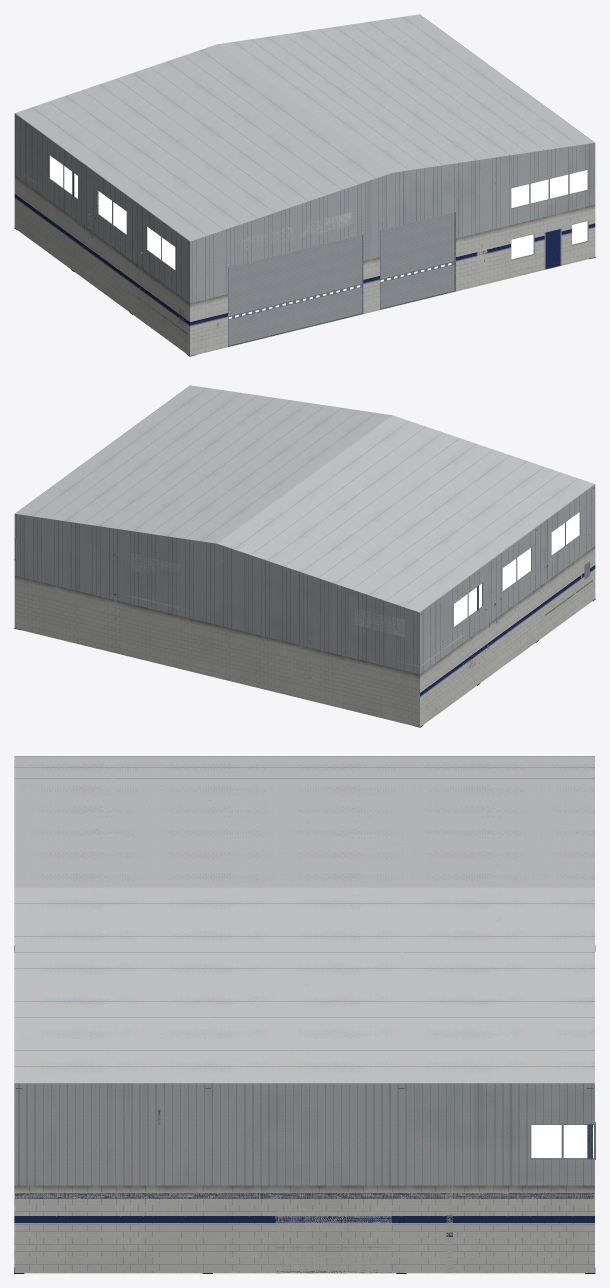
The model's file is shell_workshop.glb.
3 views of the same model, one above another, from view 1: azimuth 30°, elevation 25°; view 2: azimuth 150°, elevation 25°; view 3: azimuth 270°, elevation 25° (orthographic). The views are drawn at different scales.
Visible parts, largest first — view 1: Roof_L, Roof_R, Wall_Front_Liner, Wall_Left_Block, Wall_Front_Block, Wall_Left_Liner, St_DoorA_SlatsHigh, St_DoorB_SlatsHigh, St_DoorA_SlatsLow, St_DoorB_SlatsLow, Win_Front_2_Pane, Win_Left_1_Pane (+5 smaller); view 2: Roof_L, Roof_R, Wall_Back_Liner, Wall_Back_Block, Wall_Left_Block, Wall_Left_Liner, Sv_Spons_BackL_Back, Win_Left_1_Pane, Win_Left_0_Pane, Win_Left_2_Pane; view 3: Roof_R, Roof_L, Wall_Right_Liner, Wall_Right_Block, St_Mezz_Ledger, Rm_Wall_Carcass, Win_Right_0_Pane, Rm_Kitchen_Carcass.
Boxes of the visible parts, x1,y1,x2,y2 form: Roof_L: (15,44,392,241); Roof_R: (218,14,594,172); Wall_Front_Liner: (190,143,595,303); Wall_Left_Block: (14,175,189,355); Wall_Front_Block: (190,204,595,355); Wall_Left_Liner: (14,113,189,302); St_DoorA_SlatsHigh: (228,235,361,316); St_DoorB_SlatsHigh: (380,212,454,278); St_DoorA_SlatsLow: (228,287,361,344); St_DoorB_SlatsLow: (380,265,454,307); Win_Front_2_Pane: (511,170,587,207); Win_Left_1_Pane: (98,191,126,233); Roof_L: (217,415,594,612); Roof_R: (15,385,391,543); Wall_Back_Liner: (14,514,419,674); Wall_Back_Block: (14,575,419,726); Wall_Left_Block: (420,546,595,726); Wall_Left_Liner: (420,484,595,673); Sv_Spons_BackL_Back: (354,607,404,636); Win_Left_1_Pane: (502,548,530,590); Win_Left_0_Pane: (551,512,579,554); Win_Left_2_Pane: (454,583,481,626); Roof_R: (14,887,594,1083); Roof_L: (14,756,594,887); Wall_Right_Liner: (14,1083,594,1185); Wall_Right_Block: (14,1185,594,1273); St_Mezz_Ledger: (15,1193,594,1198); Rm_Wall_Carcass: (275,1210,391,1230); Win_Right_0_Pane: (531,1125,593,1157); Rm_Kitchen_Carcass: (275,1252,391,1270).
Bounding box in the file's own units: 24.08 × 7.65 × 18.04.
Materials: 274 (258 with a texture image).
